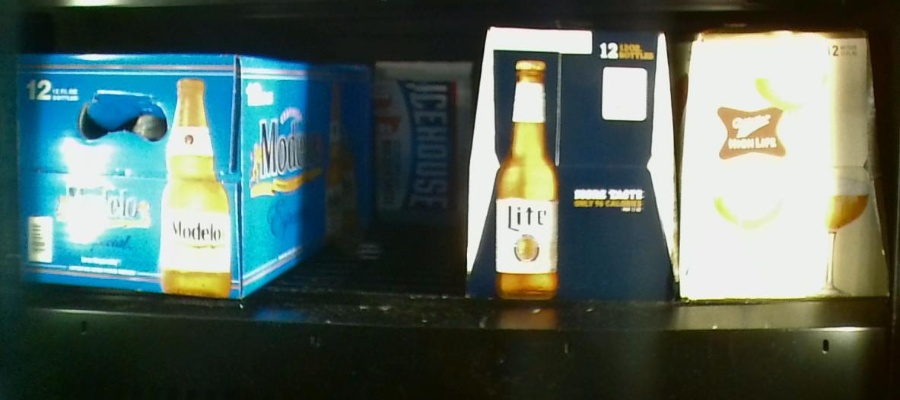bottle: (16, 53, 312, 297), (468, 25, 680, 305), (683, 30, 889, 301), (372, 58, 468, 228)
